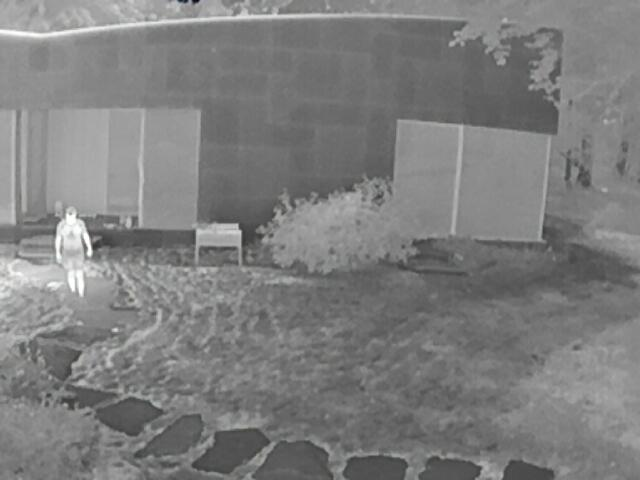person: (55, 207, 94, 297)
